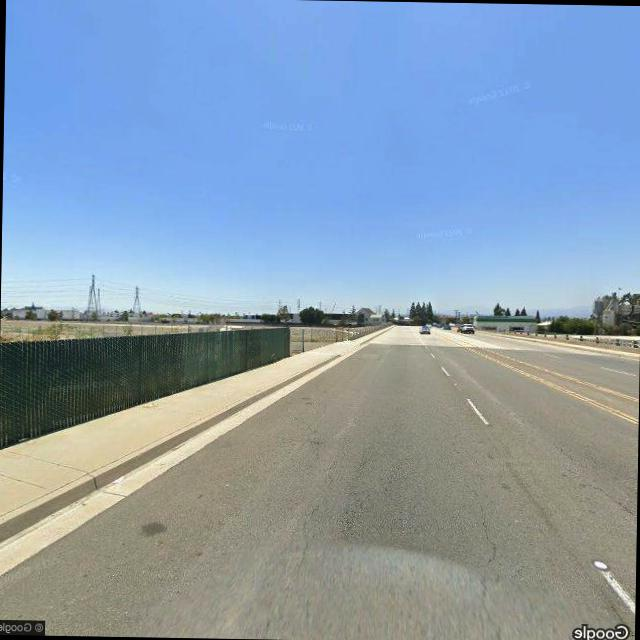crack: (470, 495, 508, 640)
